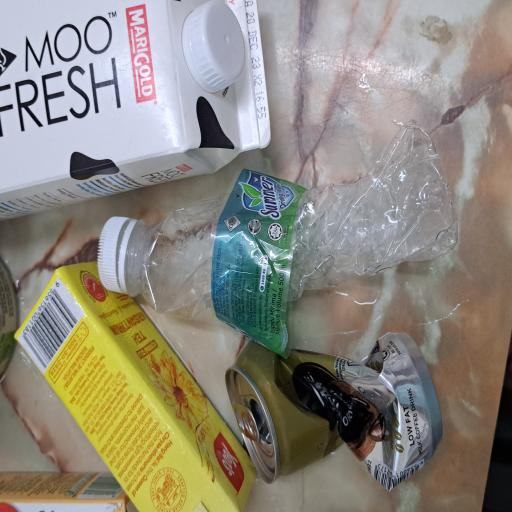can: (23, 298, 140, 512)
drink carton: (0, 12, 192, 340), (217, 0, 384, 364)
plastic bottle: (144, 167, 293, 512)
plastic bottle cap: (314, 238, 380, 324), (164, 132, 227, 182)
pop tab: (52, 303, 80, 346)
